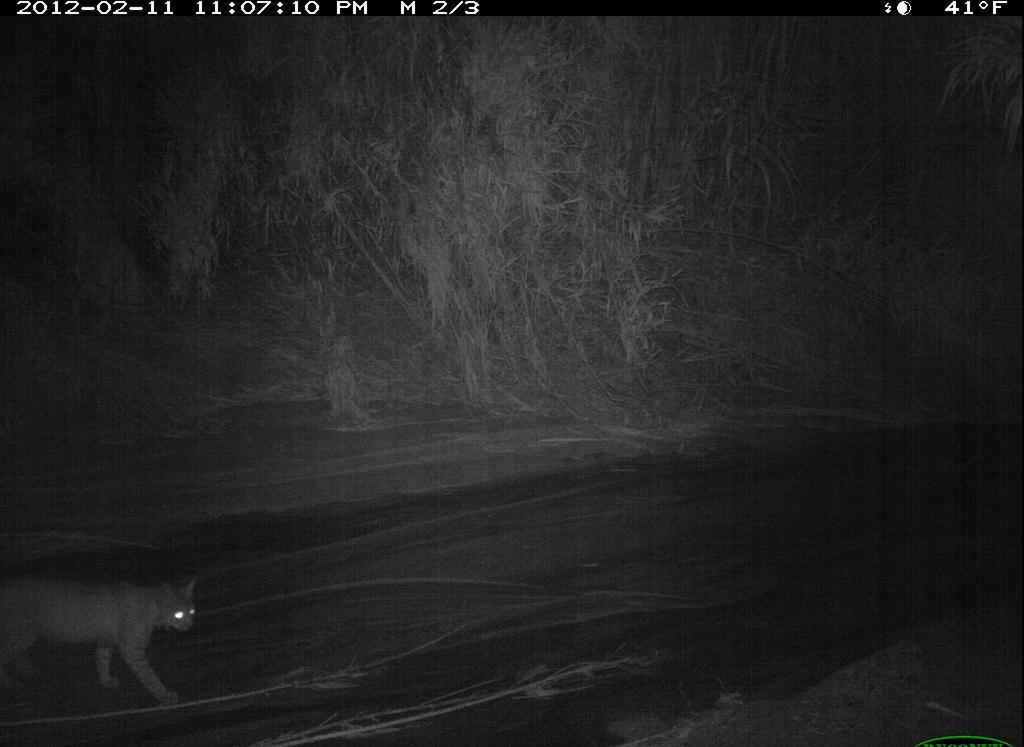bobcat: (2, 566, 208, 710)
